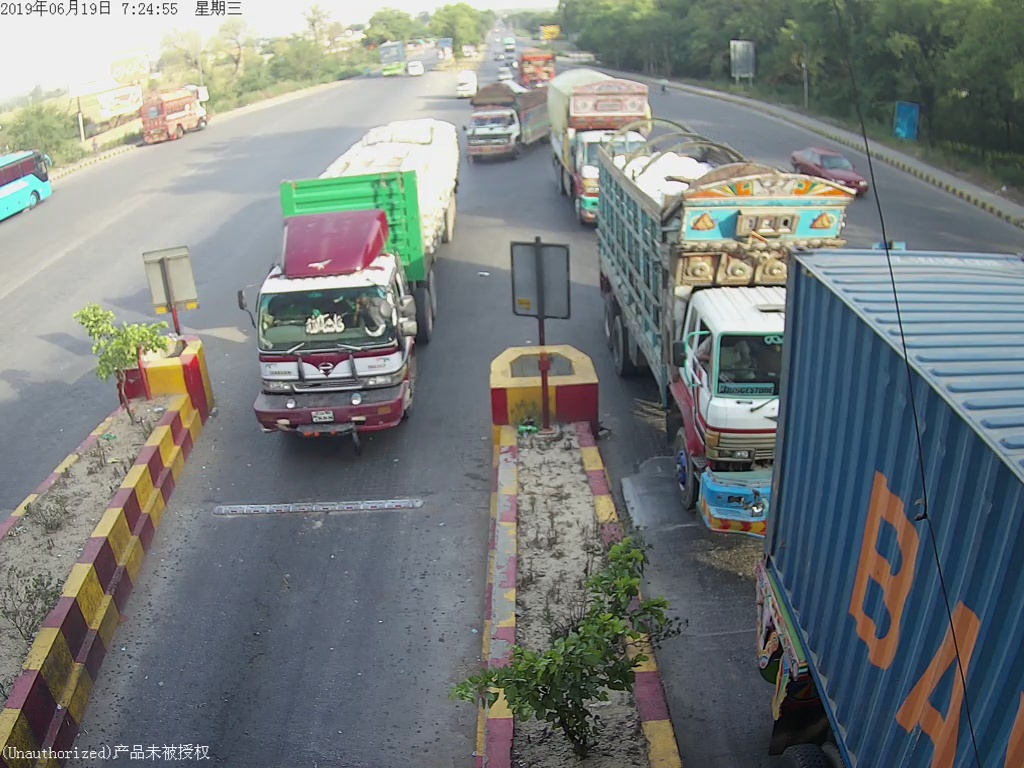Cat-4: (602, 129, 759, 553)
Cat-5: (246, 109, 460, 460)
